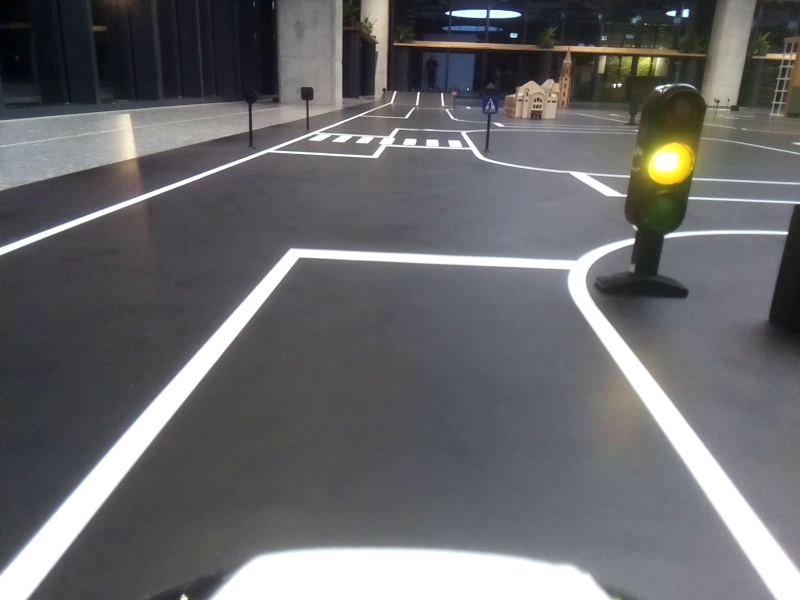traffic_yellow: (631, 88, 688, 231)
